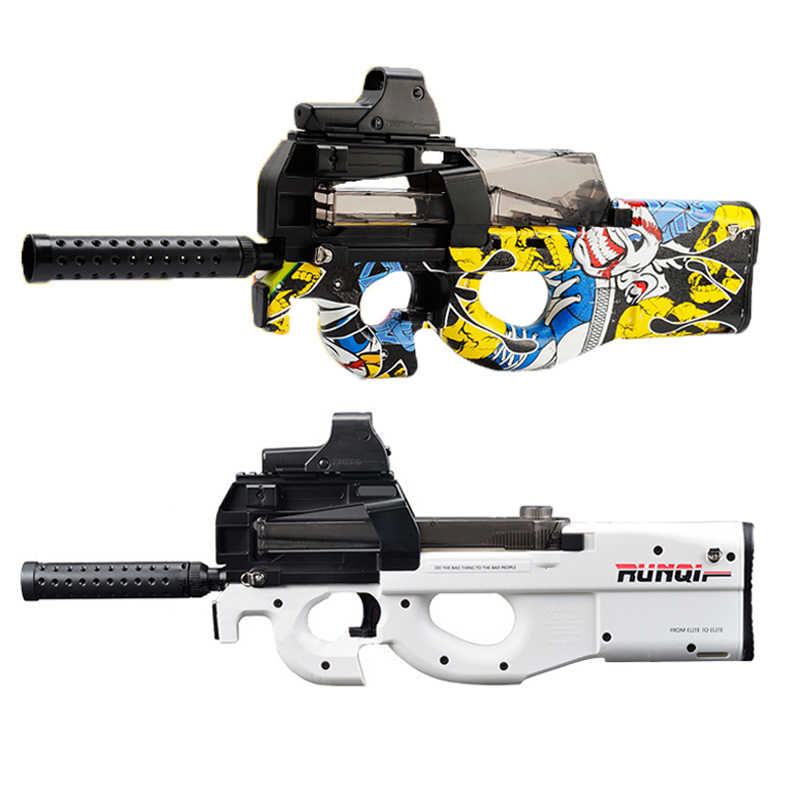Arma Falsa: (23, 64, 771, 387), (10, 409, 761, 712)
